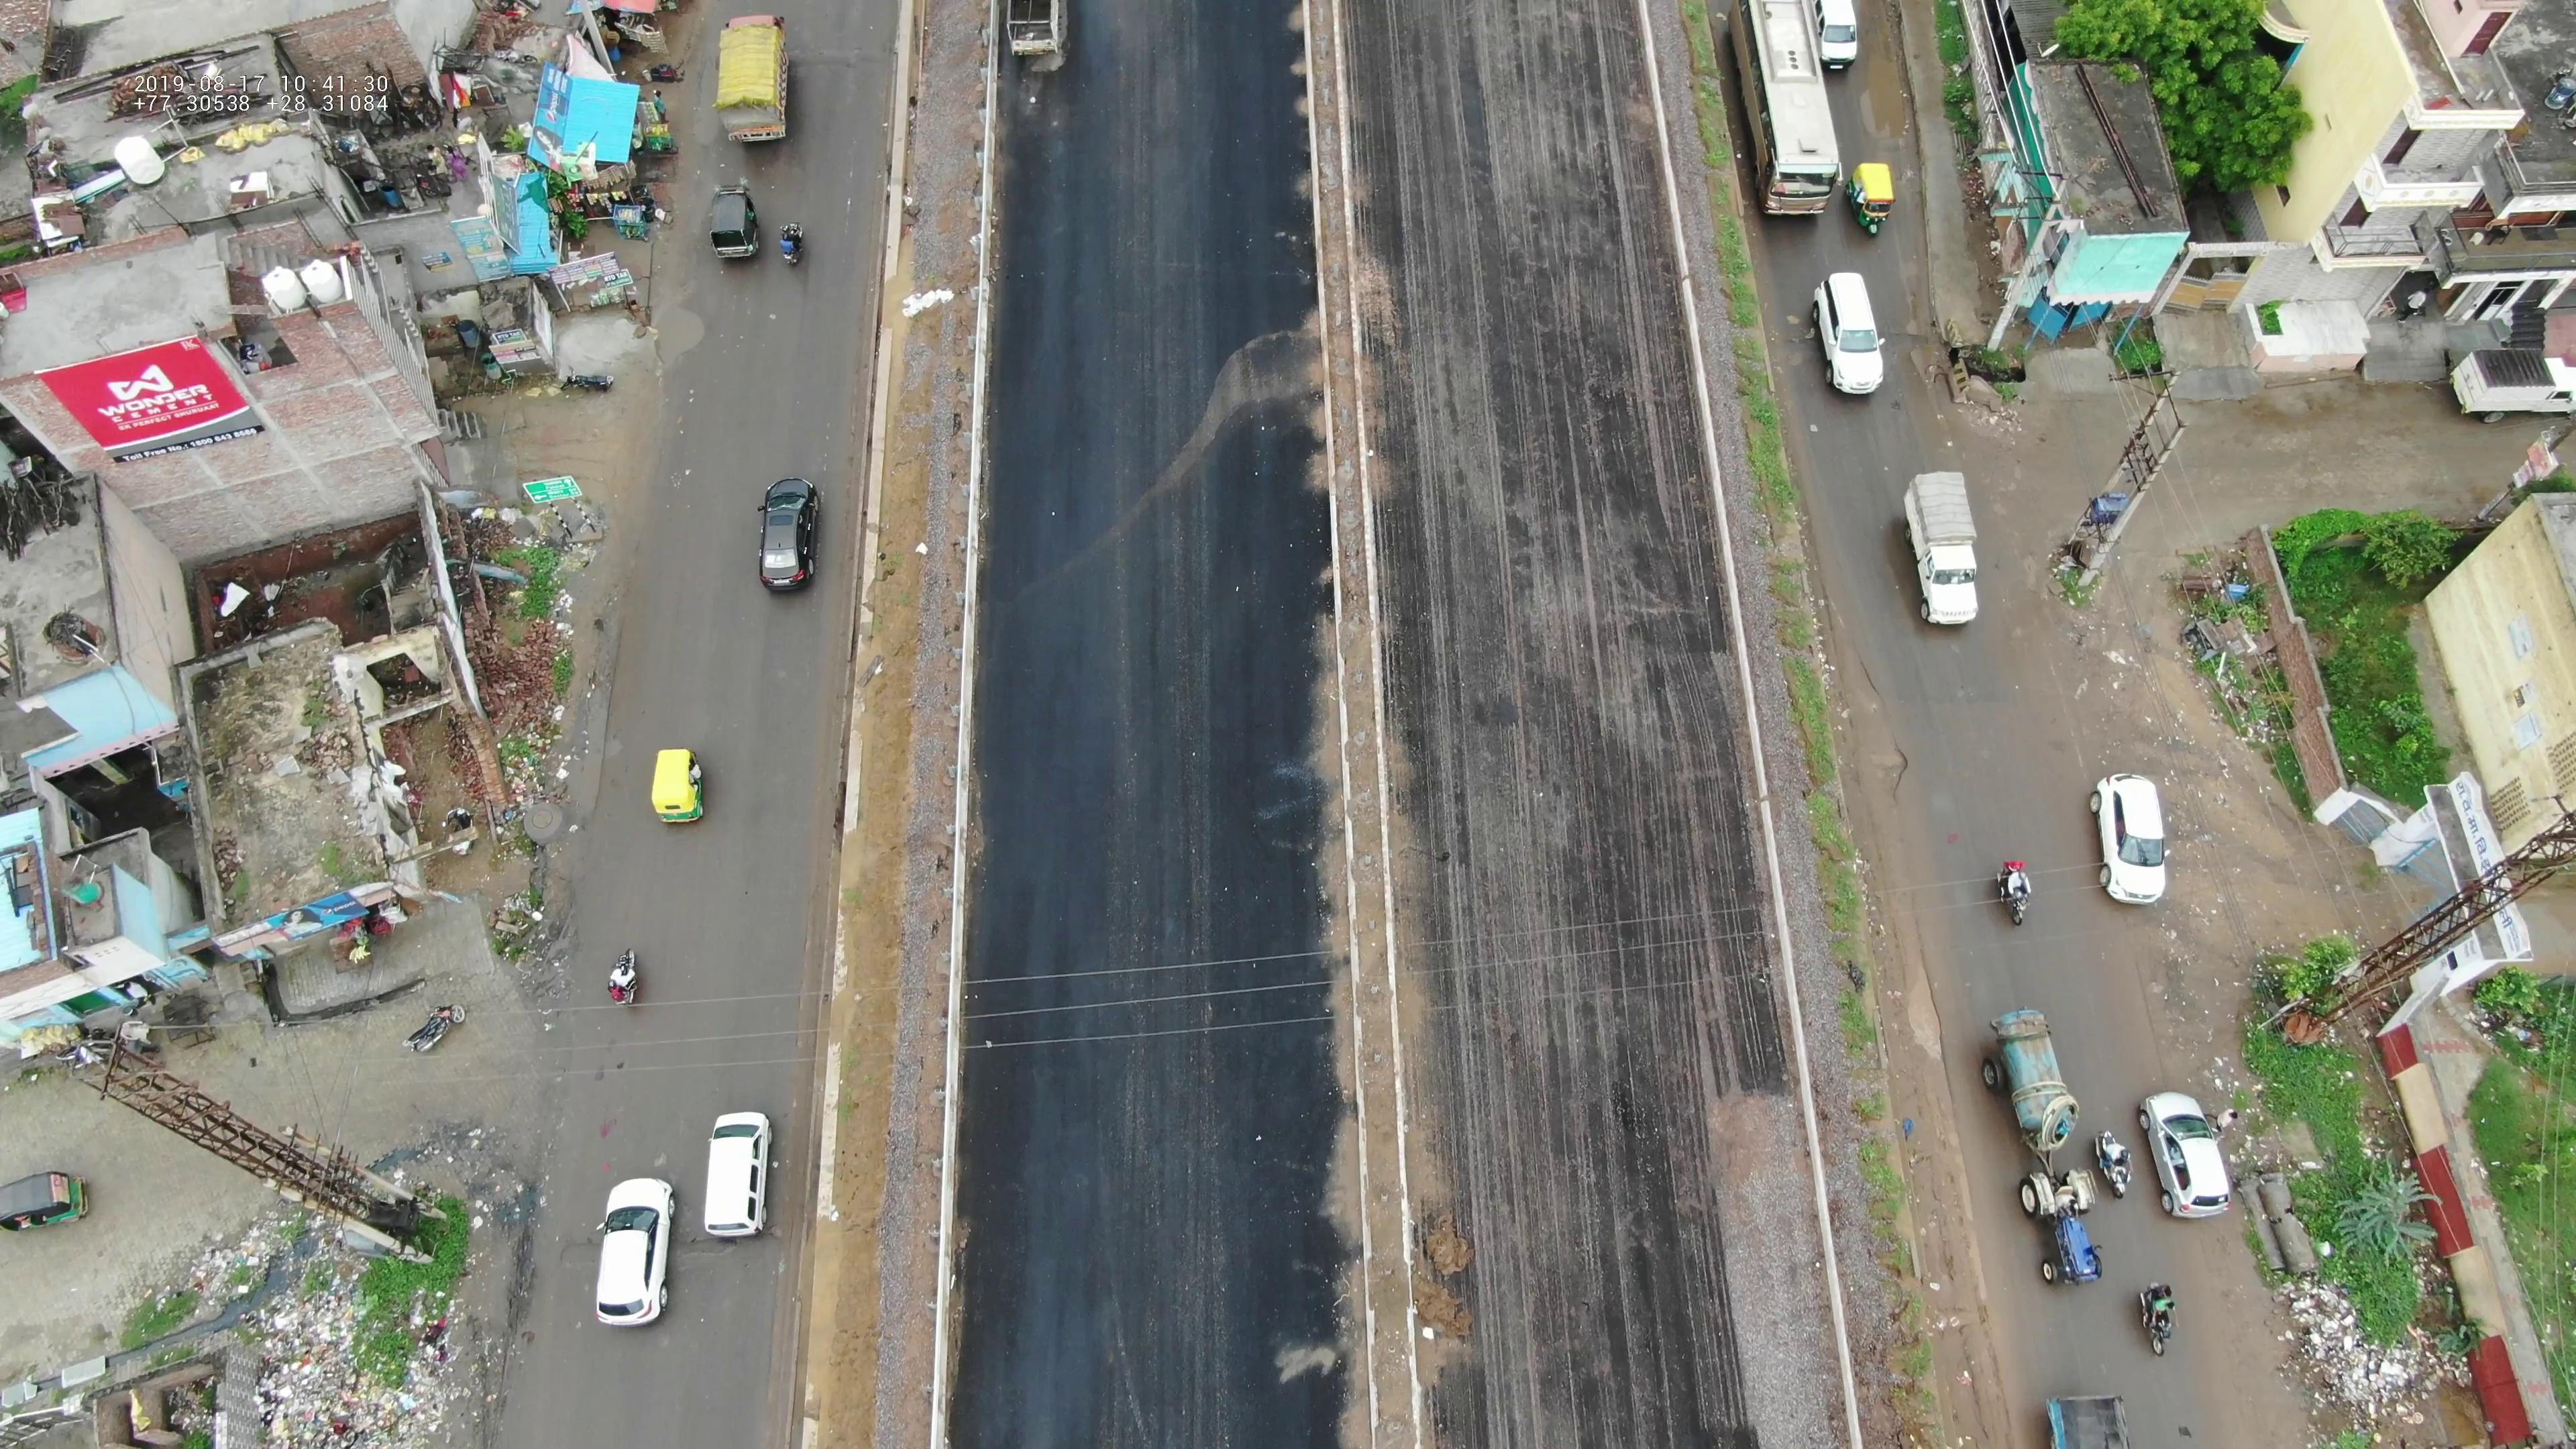Mud_Heaps: (488, 600, 564, 748)
Road_side_garbage: (260, 1277, 467, 1440)
